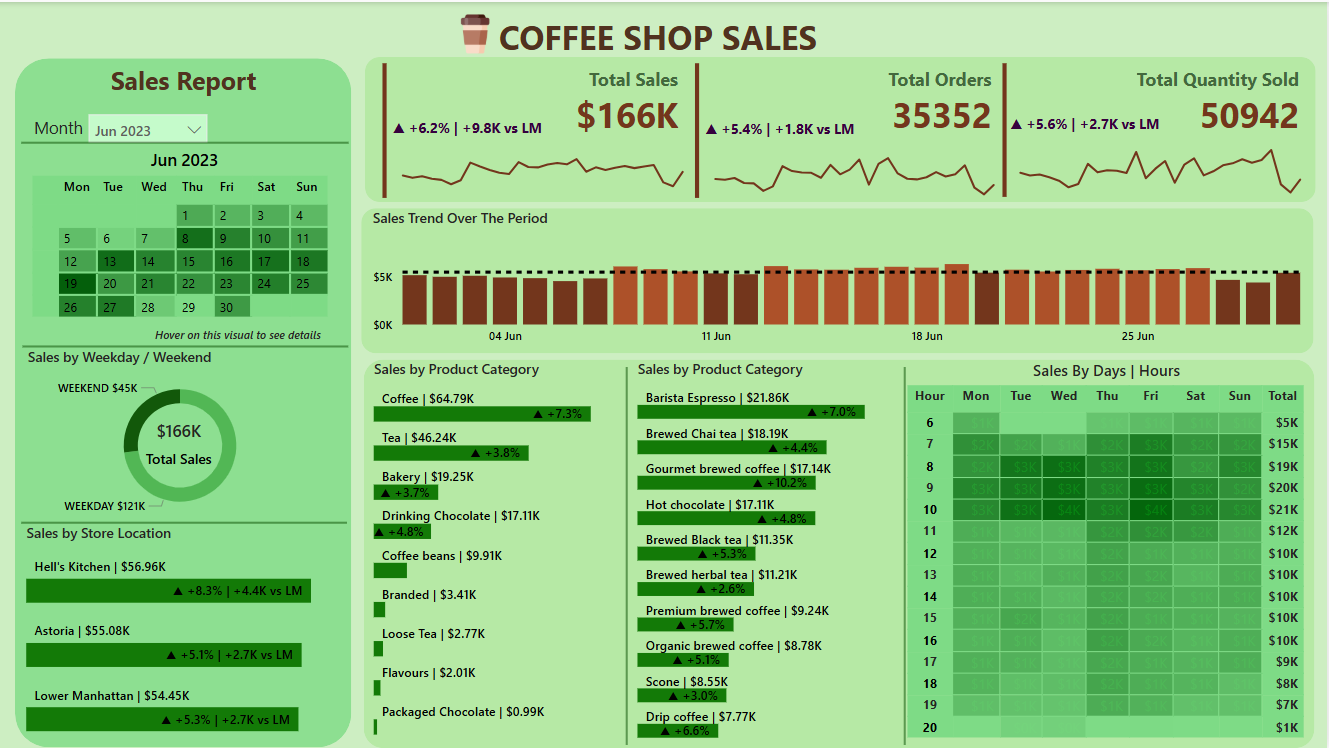

Layout of this report page (visuals, bound fields, positions):
{"tool":"powerbi","page":{"name":"Coffee Shop Sales","canvas":[1280,720],"ordinal":0},"visuals":[{"type":"cardVisual","fields":{"Data":["Transactions.Total Sales"]},"box":[364.3,54,299.5,140],"z":0,"group":"g1"},{"type":"cardVisual","fields":{"Data":["Transactions.Total Orders"]},"box":[665.6,54,300.1,140],"z":0,"group":"g2"},{"type":"cardVisual","fields":{"Data":["Transactions.Total Quantity Sold"]},"box":[962.7,54,300.1,139.7],"z":0,"group":"g3"},{"type":"shape","box":[14.4,54.8,324.6,665.1],"z":0},{"type":"textbox","box":[477,7.2,326.1,57.7],"z":1000},{"type":"lineChart","fields":{"Category":["DATE TABE.Date Hierarchy.Date"],"Y":["Transactions.Total Quantity Sold"]},"box":[970.3,108.8,300.1,83.7],"z":1000,"group":"g3"},{"type":"lineChart","fields":{"Category":["DATE TABE.Date Hierarchy.Date"],"Y":["Transactions.Total Sales"]},"box":[374,111.7,300.1,77.9],"z":1000,"group":"g1"},{"type":"lineChart","fields":{"Category":["DATE TABE.Date Hierarchy.Date"],"Y":["Transactions.Total Orders"]},"box":[674.8,113.2,298.7,79.4],"z":1000,"group":"g2"},{"type":"image","box":[422.3,7.2,73.6,47.1],"z":2000},{"type":"shape","box":[352,53.4,917.6,140],"z":3000},{"type":"slicer","fields":{"Values":["DATE TABE.Month Year"]},"box":[80.8,103.9,124.1,31.7],"z":4000},{"type":"group","id":"g1","title":"Group 1","box":[364.3,54,309.8,140],"z":5000},{"type":"group","id":"g2","title":"Group 1","box":[665.6,54,307.9,140],"z":6000},{"type":"group","id":"g3","title":"Group 1","box":[962.7,54,307.7,139.7],"z":7000},{"type":"pivotTable","fields":{"Rows":["DATE TABE.Week Number"],"Columns":["DATE TABE.Day Name"],"Values":["Min(DATE TABE.Day Number)"]},"box":[26,163,304.4,189],"z":8000},{"type":"card","fields":{"Values":["Min(DATE TABE.Month Year)"]},"box":[102.4,137.1,151.5,33.2],"z":9000},{"type":"card","fields":{"Values":["Transactions.Foot note"]},"box":[127,310.2,206.3,28.9],"z":10000},{"type":"shape","box":[20.2,128.4,316,15.9],"z":11000},{"type":"shape","box":[21.6,324.6,314.5,15.9],"z":12000},{"type":"donutChart","title":"Sales by Weekday / Weekend","fields":{"Y":["Transactions.Total Sales"],"Category":["DATE TABEL.Weekday / Weekend"]},"box":[21.6,333.3,304.4,170],"z":13000},{"type":"card","fields":{"Values":["Transactions.Total Sales"]},"box":[131.3,396.8,82.2,56.3],"z":14000},{"type":"shape","box":[20.2,494.9,314.5,15.9],"z":15000},{"type":"clusteredBarChart","title":"Sales by Store Location","fields":{"Y":["Transactions.placeholder","Transactions.Total Sales"],"Category":["Transactions.store_location"]},"box":[20.2,503.5,311.6,209.2],"z":16000},{"type":"shape","box":[349.1,199.1,919,140],"z":17000},{"type":"columnChart","title":"Sales Trend Over The Period","fields":{"Category":["Transactions.transaction_date"],"Y":["Transactions.Total Sales"]},"box":[354.9,199.1,910.4,140],"z":18000},{"type":"shape","box":[350.6,344.8,917.6,375.1],"z":19000},{"type":"clusteredBarChart","title":"Sales by Product Category","fields":{"Y":["Transactions.placeholder","Transactions.Total Sales"],"Category":["Transactions.product_category"]},"box":[356.4,344.8,249.6,367.9],"z":20000},{"type":"shape","box":[598.7,352,13,365],"z":21000},{"type":"clusteredBarChart","title":"Sales by Product Category","fields":{"Y":["Transactions.placeholder","Transactions.Total Sales"],"Category":["Transactions.product_type"]},"box":[610.3,344.8,262.6,370.8],"z":22000},{"type":"shape","box":[867.1,352,11.5,365],"z":23000},{"type":"pivotTable","title":"Sales By Days | Hours","fields":{"Rows":["Transactions.Hour"],"Columns":["DATE TABEL.Day Name"],"Values":["Transactions.Total Sales"]},"box":[871.4,344.8,393.9,373.7],"z":24000},{"type":"textbox","box":[27.4,105.3,75,37.5],"z":25000},{"type":"textbox","box":[20.2,54.8,313.1,57.7],"z":26000}]}

Visuals, with their boxes in screenshot pixels (x1, y1, x2, y2), scaled from the page's 1280x720 canvas onto the 1329x748 screenshot:
cardVisual - Transactions.Total Sales: x1=378 y1=56 x2=689 y2=202
cardVisual - Transactions.Total Orders: x1=691 y1=56 x2=1003 y2=202
cardVisual - Transactions.Total Quantity Sold: x1=1000 y1=56 x2=1311 y2=201
shape: x1=15 y1=57 x2=352 y2=747
textbox: x1=495 y1=7 x2=834 y2=67
lineChart - DATE TABE.Date Hierarchy.Date x Transactions.Total Quantity Sold: x1=1007 y1=113 x2=1319 y2=200
lineChart - DATE TABE.Date Hierarchy.Date x Transactions.Total Sales: x1=388 y1=116 x2=700 y2=197
lineChart - DATE TABE.Date Hierarchy.Date x Transactions.Total Orders: x1=701 y1=118 x2=1011 y2=200
image: x1=438 y1=7 x2=515 y2=56
shape: x1=365 y1=55 x2=1318 y2=201
slicer - DATE TABE.Month Year: x1=84 y1=108 x2=213 y2=141
"Group 1" group: x1=378 y1=56 x2=700 y2=202
"Group 1" group: x1=691 y1=56 x2=1011 y2=202
"Group 1" group: x1=1000 y1=56 x2=1319 y2=201
pivotTable - DATE TABE.Week Number x DATE TABE.Day Name: x1=27 y1=169 x2=343 y2=366
card - Min(DATE TABE.Month Year): x1=106 y1=142 x2=264 y2=177
card - Transactions.Foot note: x1=132 y1=322 x2=346 y2=352
shape: x1=21 y1=133 x2=349 y2=150
shape: x1=22 y1=337 x2=349 y2=354
"Sales by Weekday / Weekend" donutChart: x1=22 y1=346 x2=338 y2=523
card - Transactions.Total Sales: x1=136 y1=412 x2=222 y2=471
shape: x1=21 y1=514 x2=348 y2=531
"Sales by Store Location" clusteredBarChart: x1=21 y1=523 x2=345 y2=740
shape: x1=362 y1=207 x2=1317 y2=352
"Sales Trend Over The Period" columnChart: x1=368 y1=207 x2=1314 y2=352
shape: x1=364 y1=358 x2=1317 y2=747
"Sales by Product Category" clusteredBarChart: x1=370 y1=358 x2=629 y2=740
shape: x1=622 y1=366 x2=635 y2=745
"Sales by Product Category" clusteredBarChart: x1=634 y1=358 x2=906 y2=743
shape: x1=900 y1=366 x2=912 y2=745
"Sales By Days | Hours" pivotTable: x1=905 y1=358 x2=1314 y2=746
textbox: x1=28 y1=109 x2=106 y2=148
textbox: x1=21 y1=57 x2=346 y2=117
